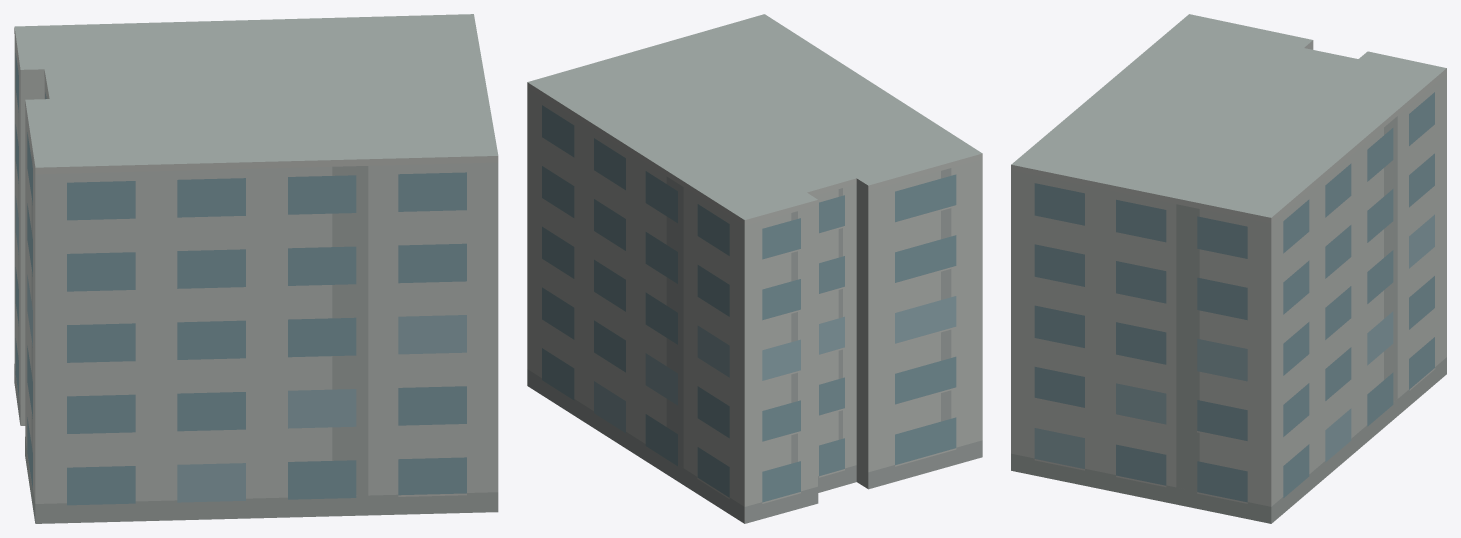
The model's file is survey-upis-32885226.glb.
3 views of the same model, side by side, from view 1: azimuth 30°, elevation 25°; view 2: azimuth 150°, elevation 25°; view 3: azimuth 270°, elevation 25° (orthographic). The views are drawn at different scales.
Visible parts, largest first — view 1: survey-upis-32885226.tmp; view 2: survey-upis-32885226.tmp; view 3: survey-upis-32885226.tmp.
Part boxes in pixels (x1,y1,x2,y2): survey-upis-32885226.tmp: (14, 14, 498, 523); survey-upis-32885226.tmp: (527, 14, 982, 523); survey-upis-32885226.tmp: (1011, 14, 1446, 523).
Size of the model in its own units: 18.58 by 13 by 16.78.
